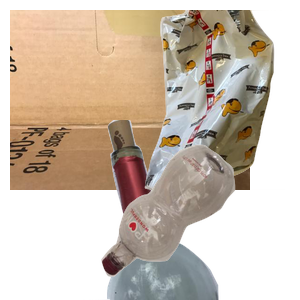cardboard: (10, 10, 250, 190)
glass: (83, 120, 294, 300)
plastic: (99, 142, 300, 300)
trash: (127, 10, 300, 190)
